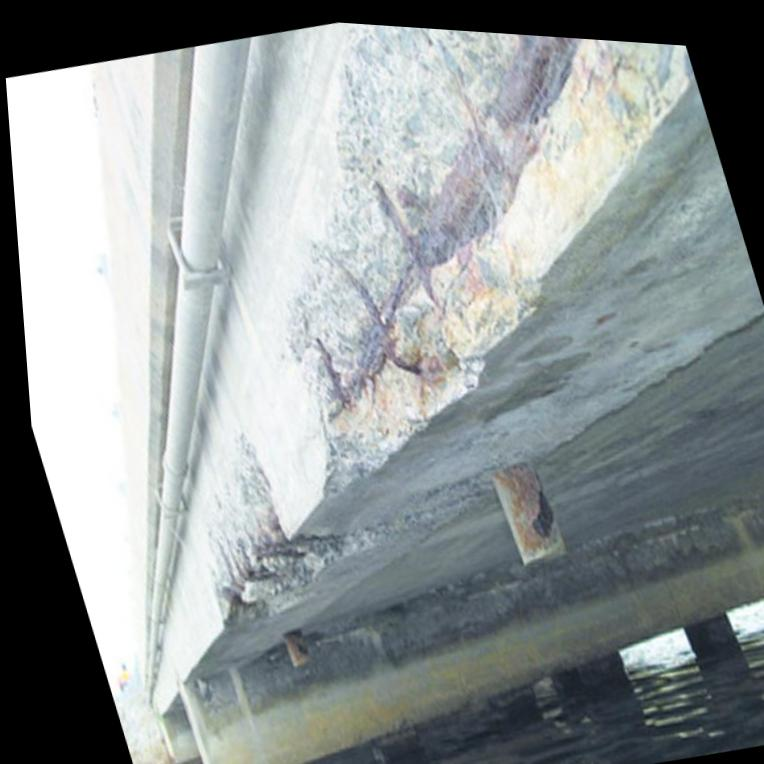crack: (541, 300, 763, 450)
damage: (278, 19, 694, 504), (200, 432, 496, 628)
